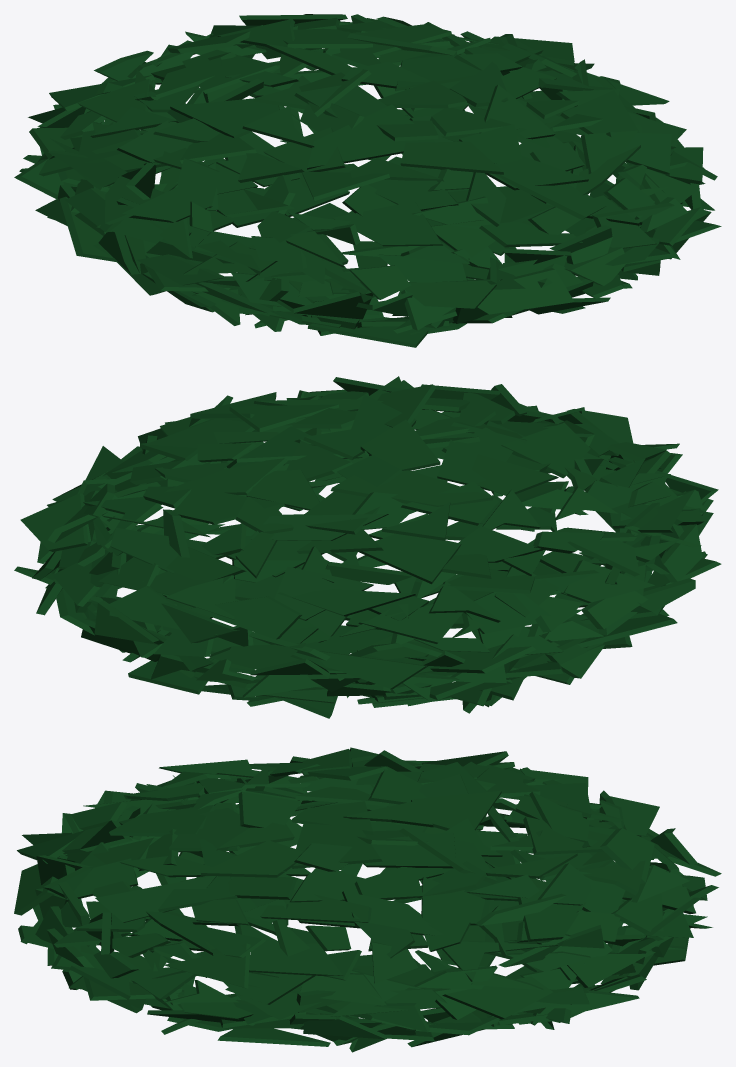
Rendered from LeafPile.fbx.
3 views of the same model, one above another, from view 1: azimuth 30°, elevation 25°; view 2: azimuth 150°, elevation 25°; view 3: azimuth 270°, elevation 25° (orthographic). The views are drawn at different scales.
Visible parts, largest first — view 1: Cube; view 2: Cube; view 3: Cube.
Boxes of the visible parts, bbox=[...] form: Cube: bbox=[14, 14, 721, 347]; Cube: bbox=[14, 376, 721, 718]; Cube: bbox=[14, 747, 721, 1052].
Size of the model in its own units: 216 by 41.9 by 234.
